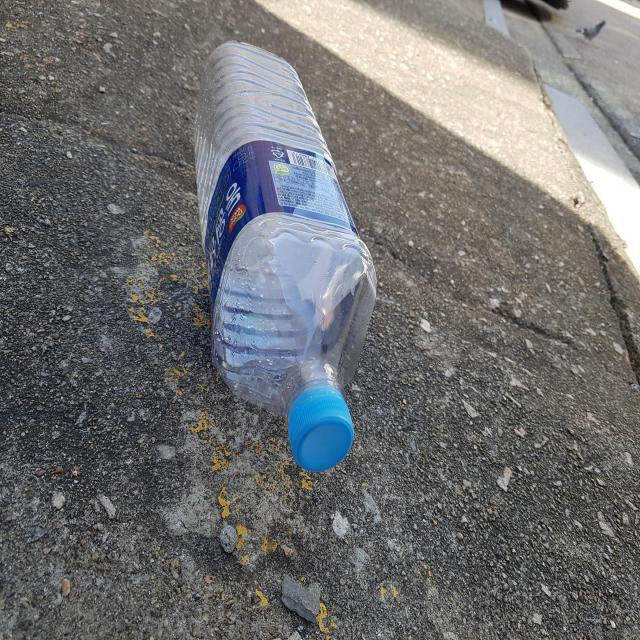plastic: (195, 41, 377, 472)
